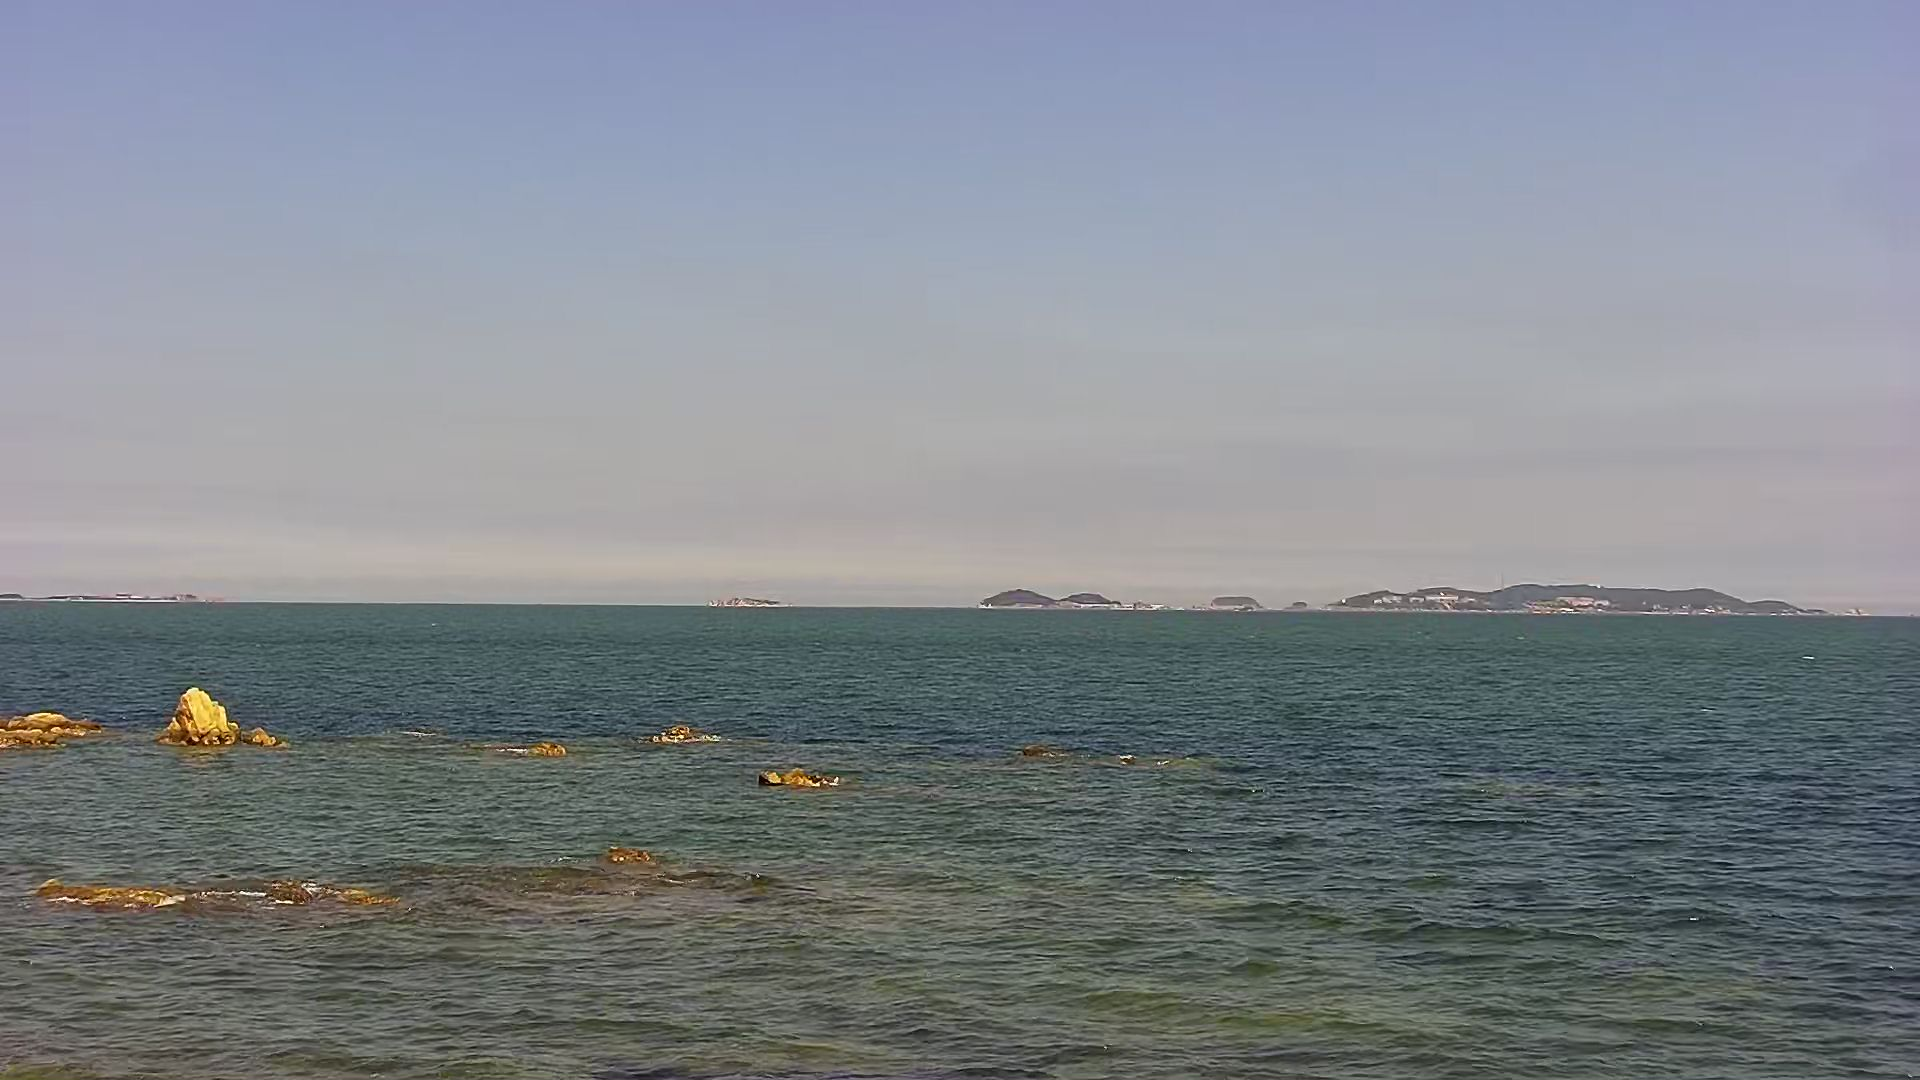rock: (1336, 572, 1847, 622), (22, 868, 204, 924), (146, 688, 305, 750), (248, 862, 405, 924), (733, 758, 884, 808), (582, 829, 688, 890), (1, 690, 115, 746), (1015, 735, 1146, 783), (1, 585, 220, 608), (1055, 575, 1135, 626), (624, 709, 721, 752), (977, 583, 1069, 613), (699, 585, 798, 613), (1189, 583, 1273, 613), (517, 728, 570, 762), (1282, 593, 1317, 618)
